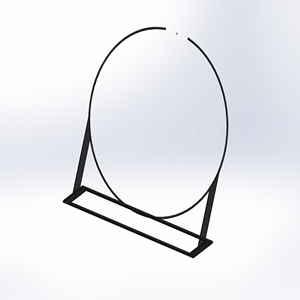circle: (61, 22, 230, 258)
